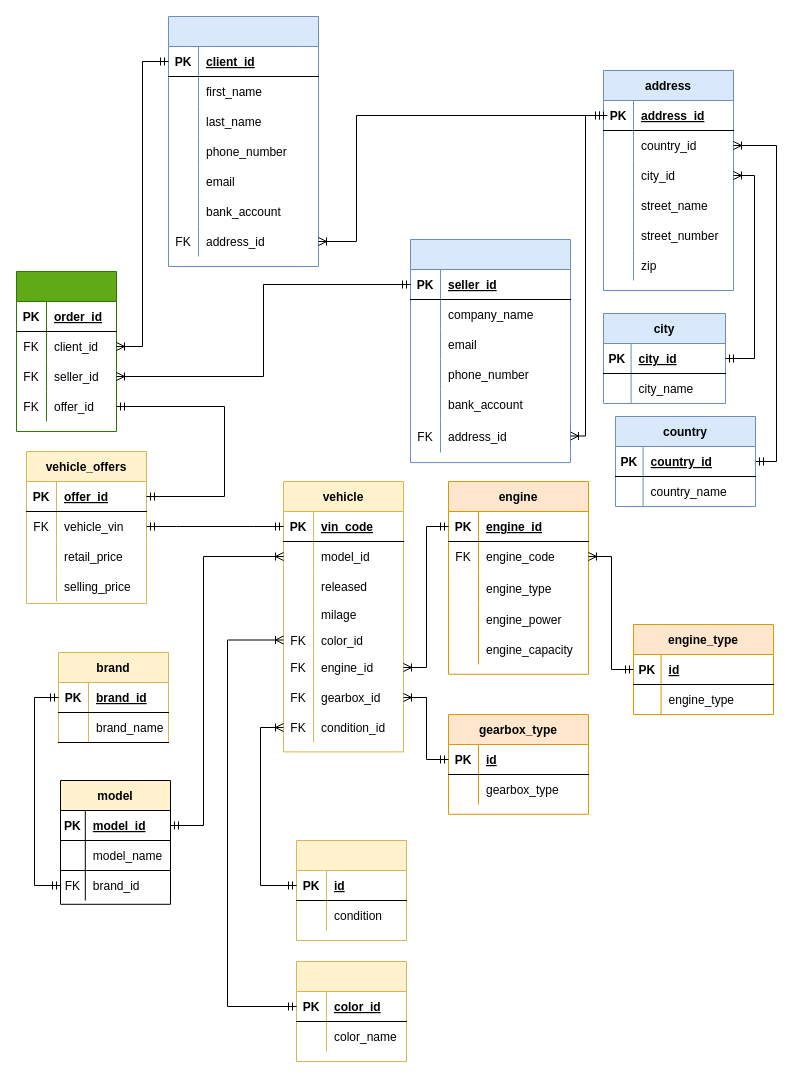
The diagram is 793 pixels wide and 1078 high, and some of its shapes have lost their labels. The box of each missing label's shape, as (x1, y1, x2, y2) in pixels:
car_condition: (296, 840, 406, 940)
clients: (168, 16, 318, 266)
colors: (296, 960, 406, 1062)
orders: (16, 270, 116, 432)
seller_company: (410, 238, 570, 463)
